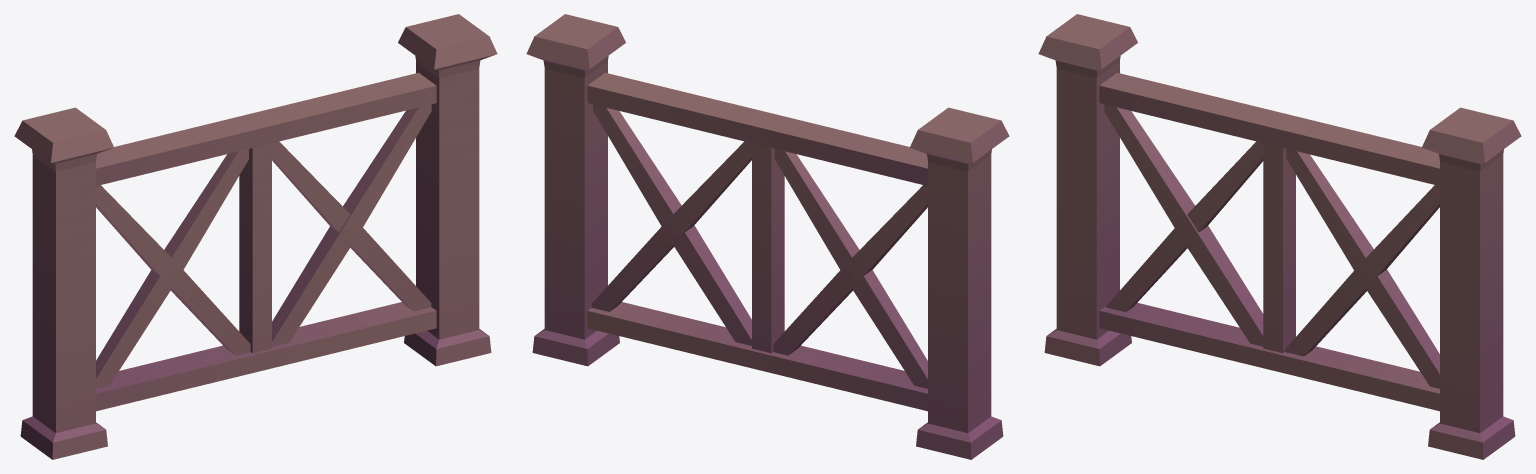
The model's file is fence002.obj.
3 views of the same model, side by side, from view 1: azimuth 30°, elevation 25°; view 2: azimuth 150°, elevation 25°; view 3: azimuth 330°, elevation 25° (orthographic).
Visible parts, largest first — view 1: fence.002; view 2: fence.002; view 3: fence.002.
Part boxes in pixels (x1,y1,x2,y2): fence.002: [14, 14, 497, 459]; fence.002: [526, 14, 1009, 459]; fence.002: [1038, 14, 1521, 459].
Size of the model in its own units: 4.43 by 3 by 0.6277.
1 material, 1 textured.
